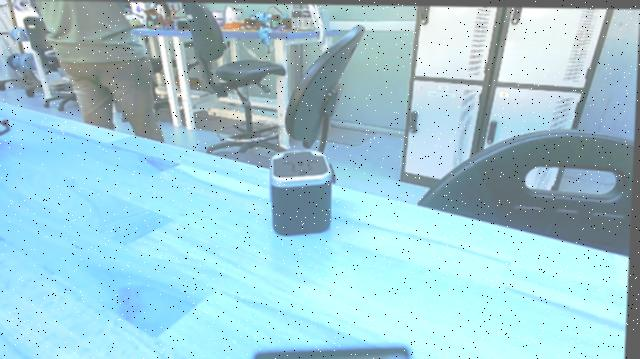adapter: (264, 144, 345, 239)
